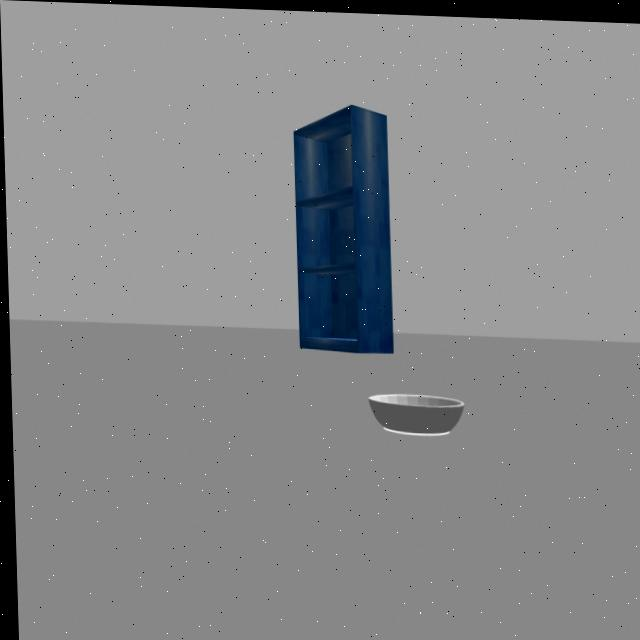bowl: (363, 372, 463, 443)
shelf: (277, 83, 405, 357)
